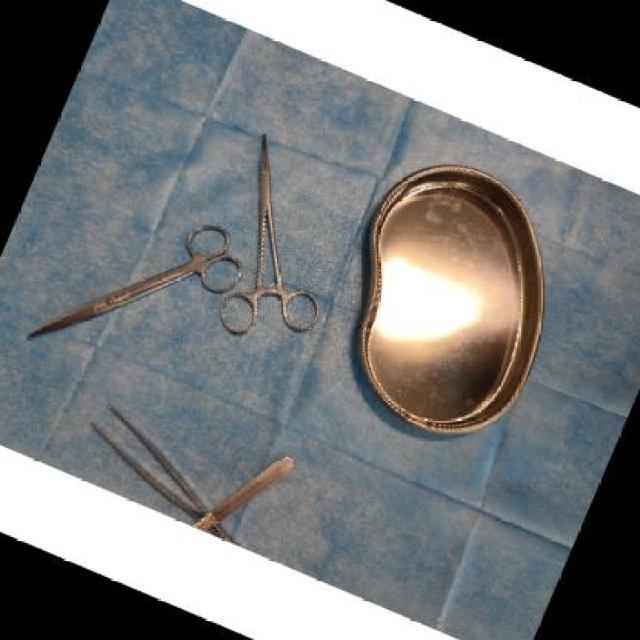tools_table: (6, 12, 604, 590)
